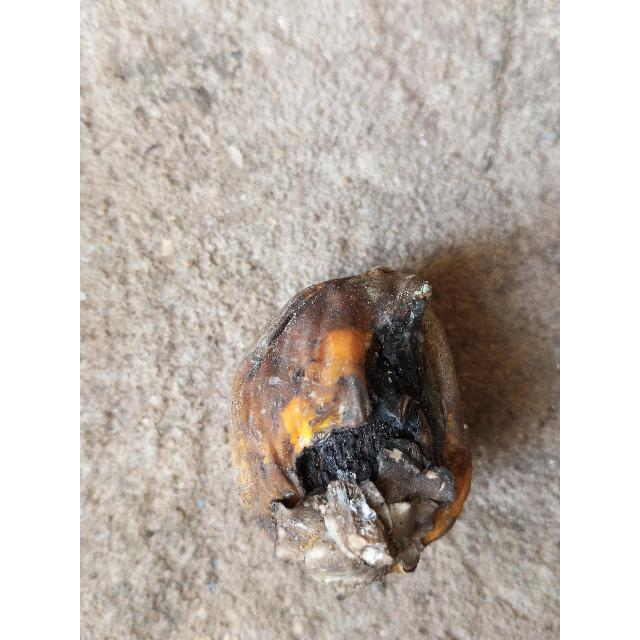damaged: (229, 268, 473, 578)
